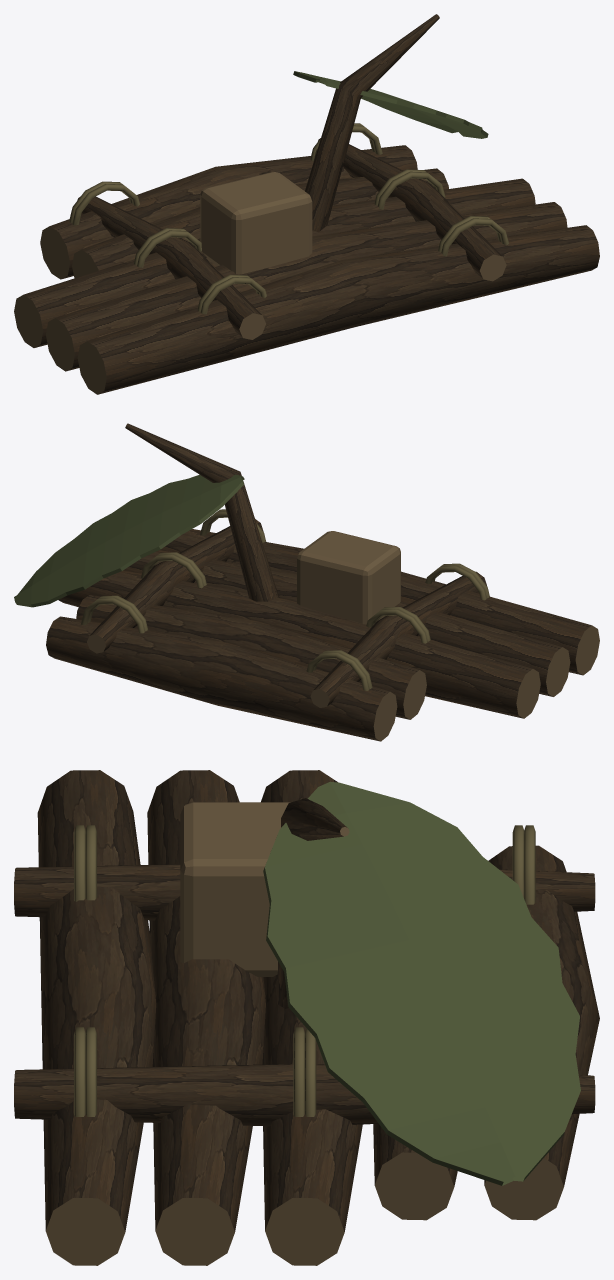
3 views of the same model, one above another, from view 1: azimuth 30°, elevation 25°; view 2: azimuth 150°, elevation 25°; view 3: azimuth 270°, elevation 25° (orthographic). The views are drawn at different scales.
Parts seen in each view (by area): view 1: Lashed twig float, Lashed twig float.001, Lashed twig float.002, Abandoned cargo, Lashed twig float.004, Broken leaning mast, Root cross brace, Root cross brace.001, Lashed twig float.003, Sagging torn leaf, Root fibre binding.006, Root fibre binding.004 (+3 smaller); view 2: Lashed twig float.004, Lashed twig float.002, Sagging torn leaf, Lashed twig float.003, Abandoned cargo, Lashed twig float, Lashed twig float.001, Broken leaning mast, Root cross brace, Root cross brace.001, Root fibre binding.011, Root fibre binding.005 (+3 smaller); view 3: Sagging torn leaf, Lashed twig float, Lashed twig float.001, Lashed twig float.002, Abandoned cargo, Root cross brace.001, Lashed twig float.004, Root cross brace, Lashed twig float.003, Broken leaning mast, Root fibre binding.008, Root fibre binding.006 (+6 smaller).
Part boxes in pixels (x1,y1,x2,y2): Lashed twig float: (77,225,599,394); Lashed twig float.001: (46,202,567,371); Lashed twig float.002: (14,178,535,347); Abandoned cargo: (200,172,312,274); Lashed twig float.004: (40,145,417,279); Broken leaning mast: (305,14,439,232); Root cross brace: (77,196,265,339); Root cross brace.001: (318,138,506,281); Lashed twig float.003: (72,168,448,278); Sagging torn leaf: (293,71,488,138); Root fibre binding.006: (441,218,508,256); Root fibre binding.004: (72,184,139,225); Lashed twig float.004: (46,616,397,741); Lashed twig float.002: (58,570,540,718); Sagging torn leaf: (14,474,244,607); Lashed twig float.003: (76,595,426,719); Abandoned cargo: (297,531,400,624); Lashed twig float: (160,529,599,675); Lashed twig float.001: (123,550,570,696); Broken leaning mast: (125,423,279,601); Root cross brace: (310,571,487,707); Root cross brace.001: (87,519,263,653); Root fibre binding.011: (80,597,144,633); Root fibre binding.005: (306,652,369,690); Sagging torn leaf: (263,781,580,1185); Lashed twig float: (37,770,156,1265); Lashed twig float.001: (147,770,265,1265); Lashed twig float.002: (261,770,362,1265); Abandoned cargo: (180,802,290,976); Root cross brace.001: (14,1064,595,1126); Lashed twig float.004: (484,845,599,1220); Root cross brace: (14,864,595,920); Lashed twig float.003: (373,1123,457,1220); Broken leaning mast: (277,798,349,1008); Root fibre binding.008: (293,1027,304,1116); Root fibre binding.006: (74,1027,85,1116).
Size of the model in its own units: 4.98 by 2.1 by 2.94.
Materials: 4 (1 with a texture image).
